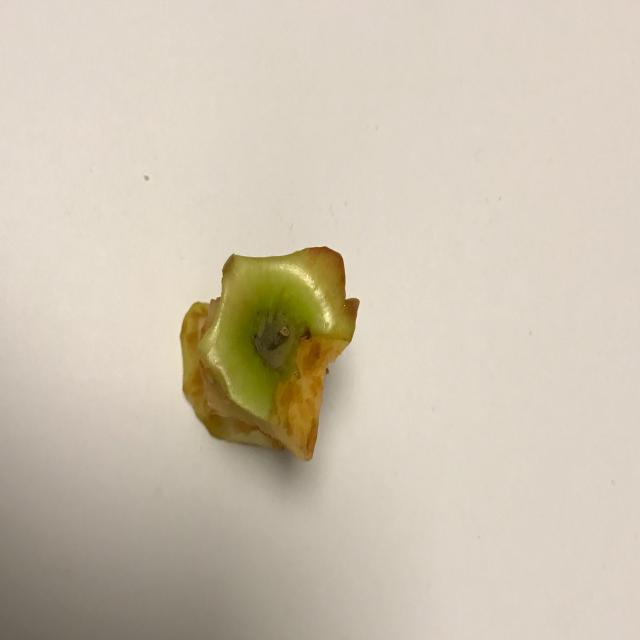Trash: (180, 244, 360, 462)
